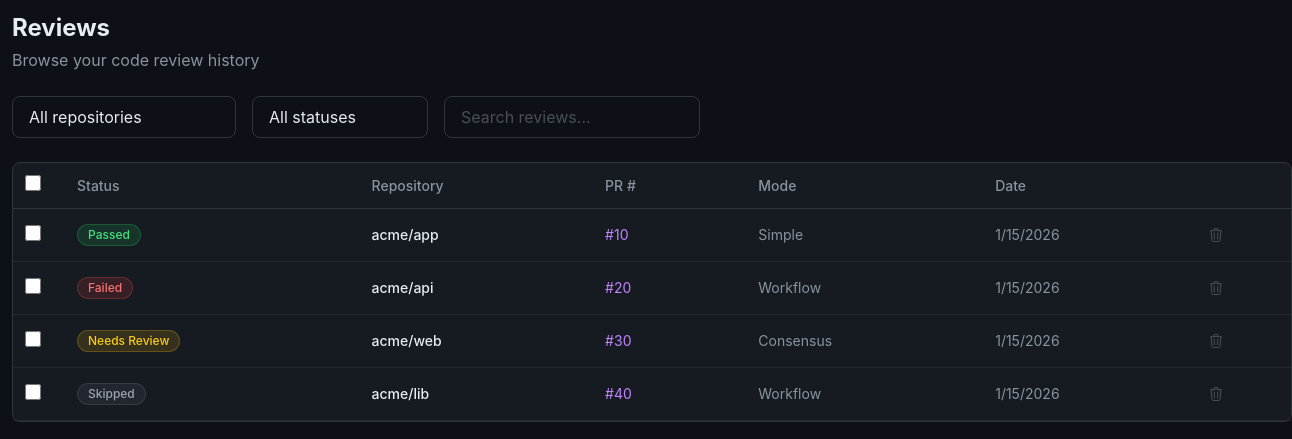
Test: Reviews — status filter › filters reviews by status when a status option is selected
Expected: the text "acme/app" is shown, [348,208,581,262]
Expected: the text "acme/api" is shown, [348,262,581,314]
Note: Select "Failed" filter
Select "Failed" in the 2nd dropdown showing "All statuses" at [340, 117], box [252,96,428,138]
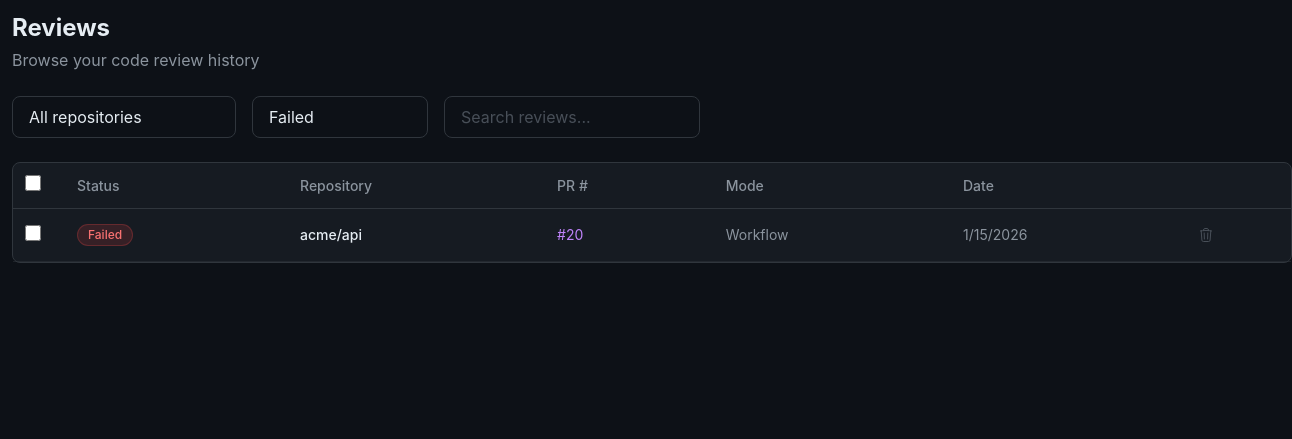
Now the text "acme/app" is gone
Now the text "acme/web" is gone
Now the text "acme/lib" is gone
